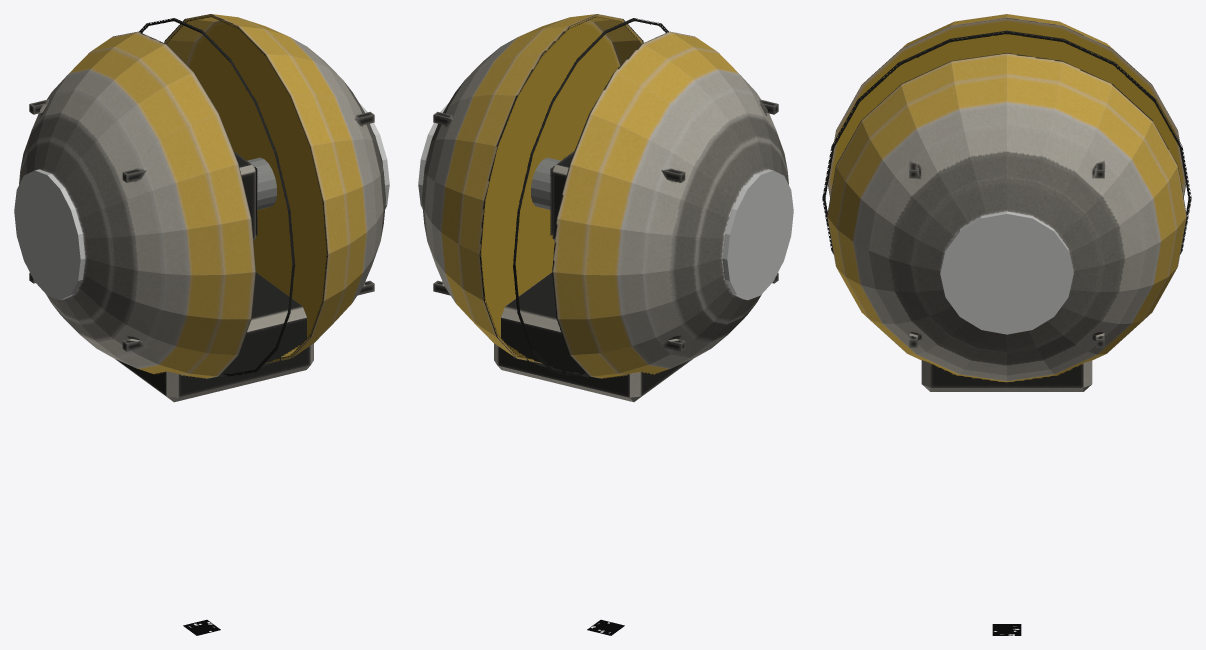
The model's file is ord_martyr.fbx.
3 views of the same model, side by side, from view 1: azimuth 30°, elevation 25°; view 2: azimuth 150°, elevation 25°; view 3: azimuth 270°, elevation 25° (orthographic).
Visible parts, largest first — view 1: shell_bar, shell_glow_power_bar, base_bar, torso_bar; view 2: shell_bar, shell_glow_power_bar, base_bar, torso_bar; view 3: shell_bar, shell_glow_power_bar, base_bar.
Boxes of the visible parts, box(x1,y1,x2,y2) form: shell_bar: box(19, 14, 385, 378); shell_glow_power_bar: box(14, 103, 389, 300); base_bar: box(114, 272, 313, 402); torso_bar: box(234, 152, 276, 240); shell_bar: box(422, 14, 788, 378); shell_glow_power_bar: box(418, 103, 793, 300); base_bar: box(494, 272, 693, 402); torso_bar: box(531, 151, 574, 240); shell_bar: box(822, 14, 1191, 382); shell_glow_power_bar: box(940, 211, 1073, 334); base_bar: box(921, 360, 1092, 391).
Bounding box in the file's own units: 252 × 465 × 260.
Materials: 2 (2 with a texture image).
